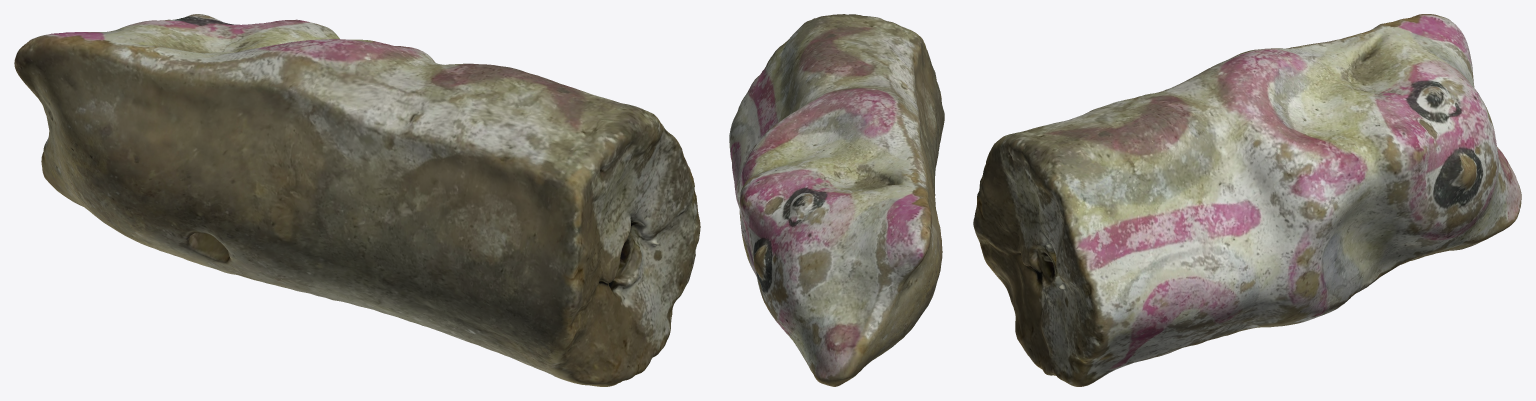
The picture shows the model from 3 angles, left to right: view 1: azimuth 30°, elevation 25°; view 2: azimuth 150°, elevation 25°; view 3: azimuth 270°, elevation 25°; orthographic projection. The views are drawn at different scales.
Bounding box in the file's own units: 0.6859 × 0.3985 × 0.8296.
1 material, 1 textured.
